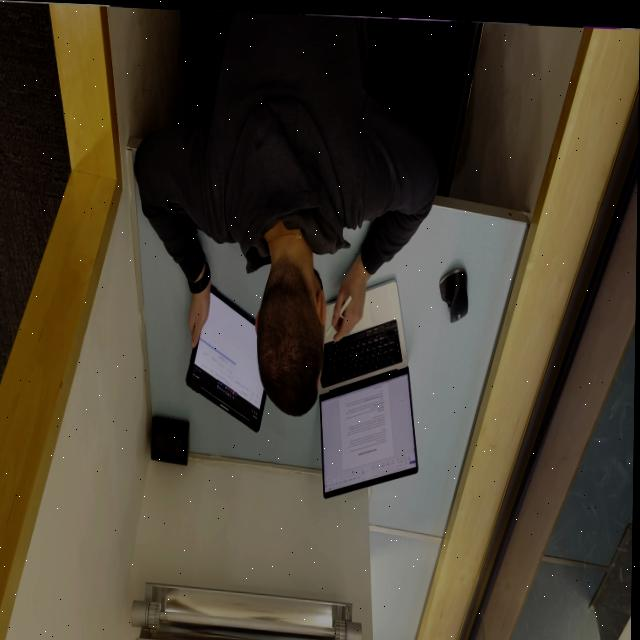bag: (186, 282, 269, 432)
ipad: (131, 6, 456, 420)
laptop: (317, 272, 422, 500)
mouse: (437, 261, 475, 320)
